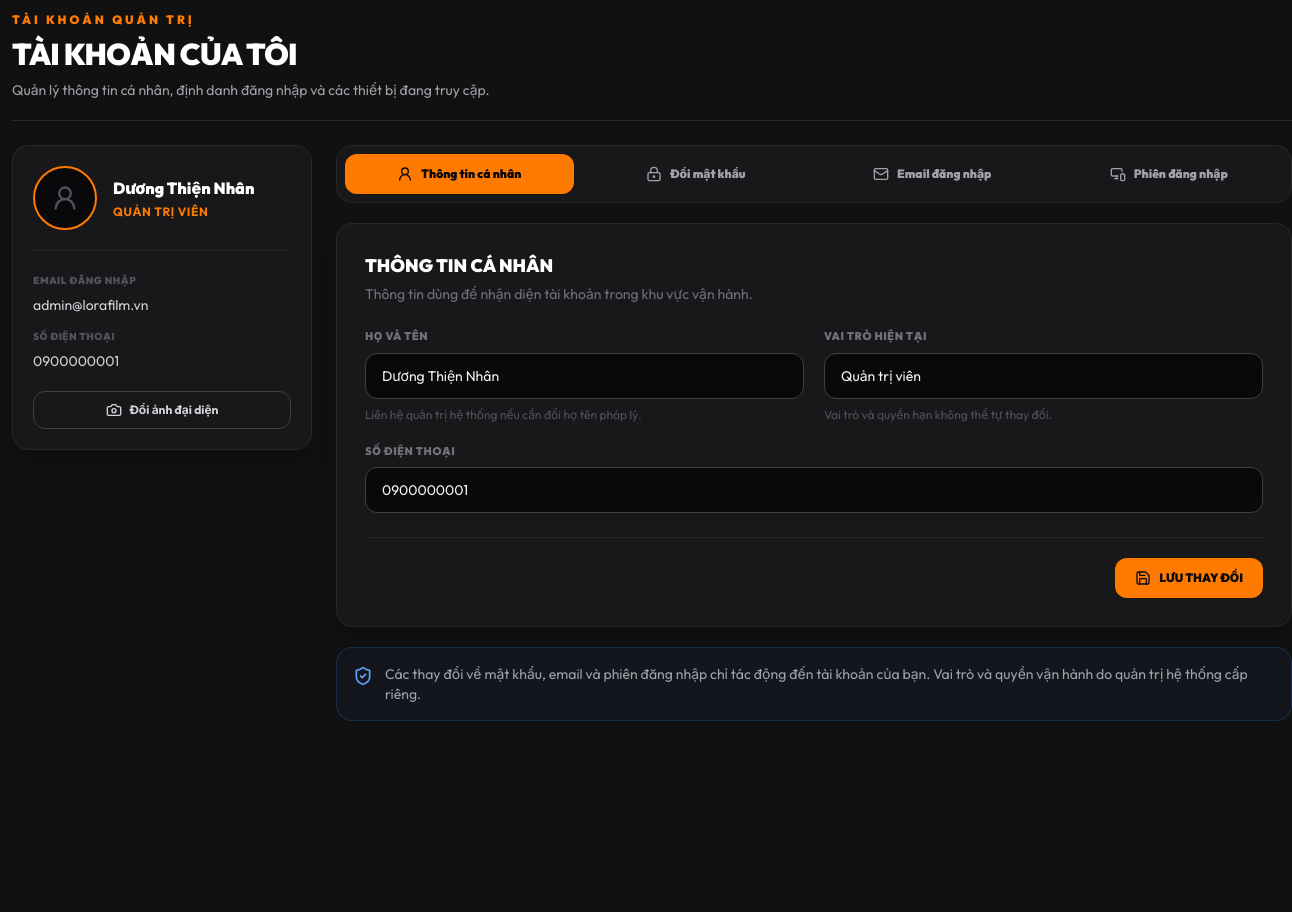
Test: AdminMyAccountPage › falls back from obsolete security query values and loads sessions only on demand
Expected: the heading "Thông tin cá nhân" is shown, [365,254,553,277]
Click the button "Phiên đăng nhập". click: click(1169, 174)
box: [1054,154,1283,194]
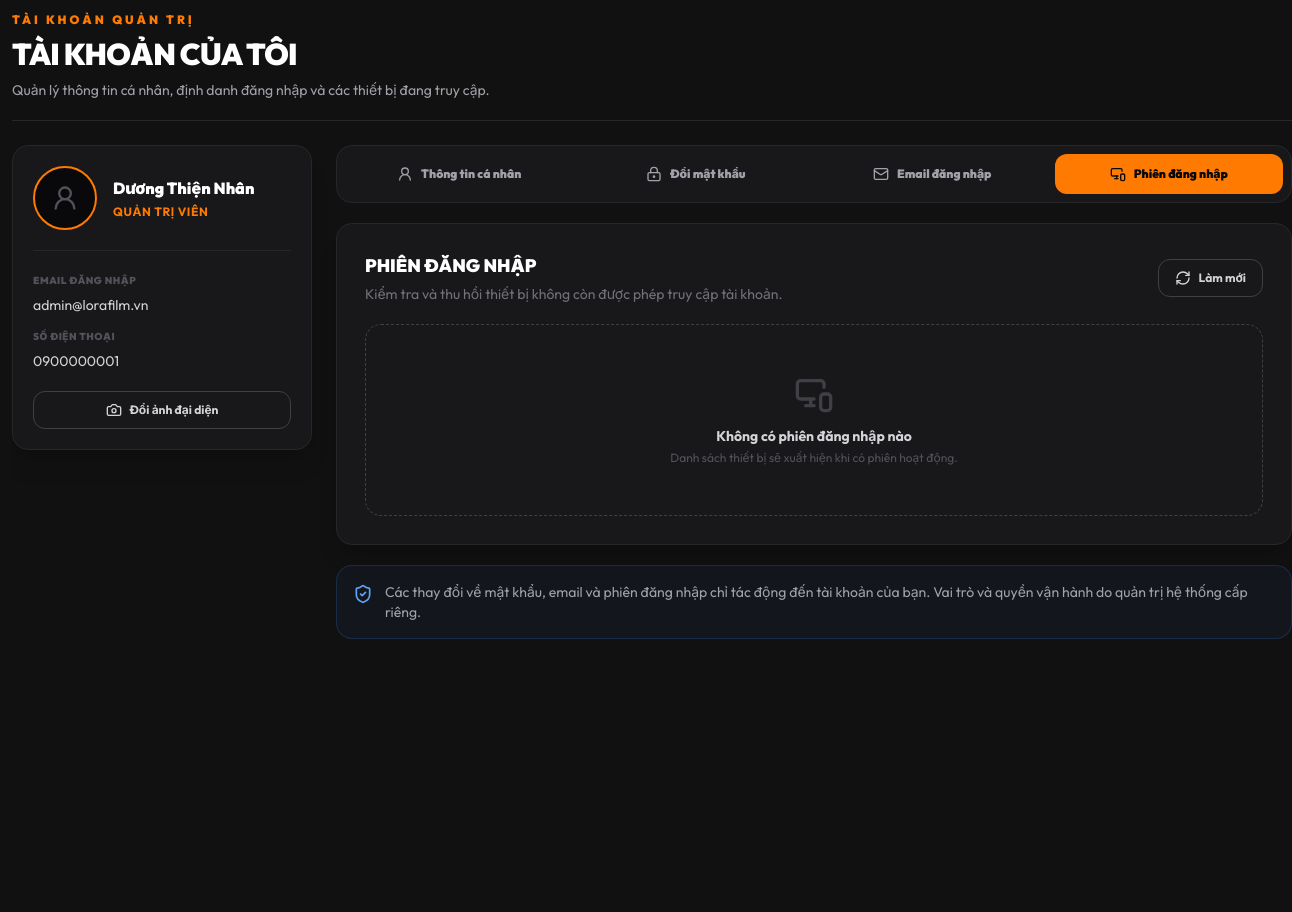
Expected: the text "Không có phiên đăng nhập nào" is shown, [716,426,912,446]
